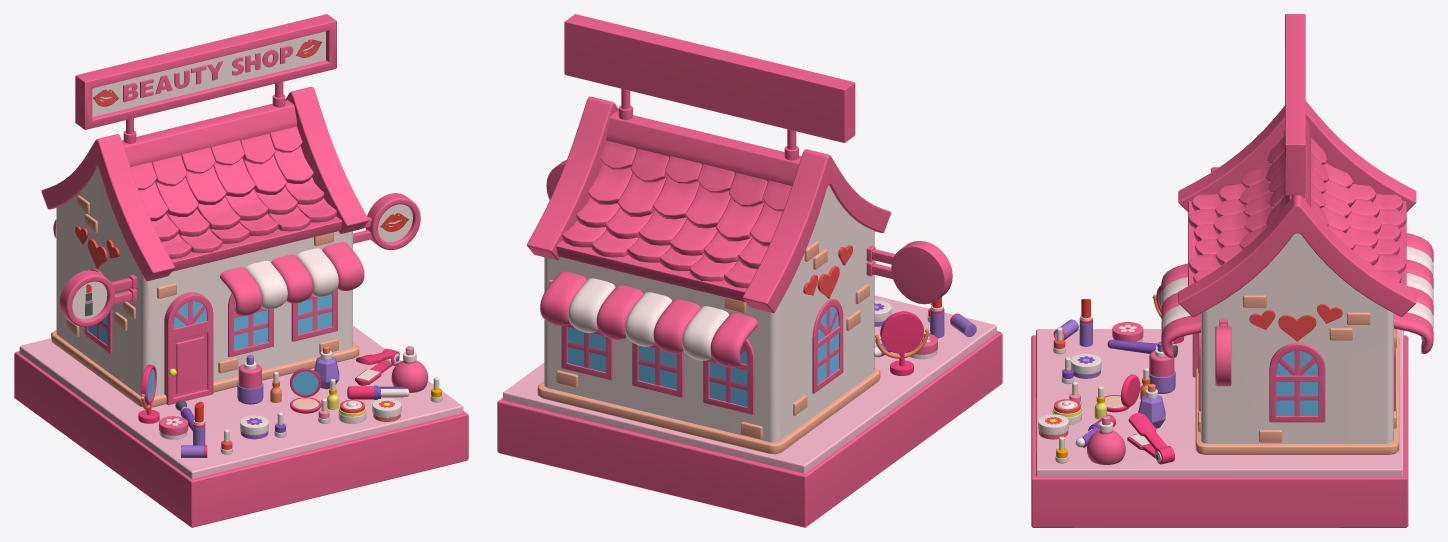
Rendered from Store_Island_17.glb.
3 renders of one model, left to right at view 1: azimuth 30°, elevation 25°; view 2: azimuth 150°, elevation 25°; view 3: azimuth 270°, elevation 25°, orthographic. The views are drawn at different scales.
Parts seen in each view (by area): view 1: Store_17_Beauty_Shop_1, Store_17_Base_1, Store_17_Beauty_Shop_Sign_1, Store_17_Beauty_Sign_2, Store_17_Beauty_Sign_1, Store_17_Face_Powder_1, Store_17_Perfume_Bottle_1, Store_17_Spray_1, Store_17_Hair_Straightener_1, Store_17_Mirror_1, Store_17_Curling_Iron_1, Store_17_Perfume_Bottle_2 (+4 smaller); view 2: Store_17_Beauty_Shop_1, Store_17_Base_1, Store_17_Beauty_Shop_Sign_1, Store_17_Beauty_Sign_2, Store_17_Mirror_1; view 3: Store_17_Beauty_Shop_1, Store_17_Base_1, Store_17_Beauty_Shop_Sign_1, Store_17_Perfume_Bottle_1, Store_17_Hair_Straightener_1, Store_17_Beauty_Sign_1, Store_17_Spray_1, Store_17_Face_Powder_1, Store_17_Perfume_Bottle_2, Store_17_Heart_Sign_4, Store_17_Cream_3, Store_17_Cream_4 (+4 smaller).
Boxes of the visible parts, box(x1,y1,x2,y2) form: Store_17_Beauty_Shop_1: box(41, 86, 368, 407); Store_17_Base_1: box(14, 326, 468, 527); Store_17_Beauty_Shop_Sign_1: box(75, 14, 336, 143); Store_17_Beauty_Sign_2: box(60, 270, 137, 327); Store_17_Beauty_Sign_1: box(353, 193, 420, 249); Store_17_Face_Powder_1: box(290, 368, 321, 413); Store_17_Perfume_Bottle_1: box(391, 346, 428, 392); Store_17_Spray_1: box(237, 355, 263, 404); Store_17_Hair_Straightener_1: box(355, 348, 399, 385); Store_17_Mirror_1: box(138, 364, 159, 423); Store_17_Curling_Iron_1: box(347, 385, 409, 399); Store_17_Perfume_Bottle_2: box(314, 346, 339, 389); Store_17_Beauty_Shop_1: box(526, 96, 890, 454); Store_17_Base_1: box(497, 295, 1002, 527); Store_17_Beauty_Shop_Sign_1: box(564, 14, 855, 160); Store_17_Beauty_Sign_2: box(866, 241, 952, 304); Store_17_Mirror_1: box(874, 311, 930, 375); Store_17_Beauty_Shop_1: box(1161, 101, 1433, 454); Store_17_Base_1: box(1031, 329, 1408, 527); Store_17_Beauty_Shop_Sign_1: box(1285, 14, 1305, 198); Store_17_Perfume_Bottle_1: box(1086, 415, 1125, 464); Store_17_Hair_Straightener_1: box(1127, 413, 1174, 464); Store_17_Beauty_Sign_1: box(1215, 319, 1231, 386); Store_17_Spray_1: box(1149, 341, 1175, 393); Store_17_Face_Powder_1: box(1104, 374, 1140, 412); Store_17_Perfume_Bottle_2: box(1138, 383, 1165, 428); Store_17_Heart_Sign_4: box(1278, 315, 1316, 341); Store_17_Cream_3: box(1038, 414, 1068, 439); Store_17_Cream_4: box(1071, 353, 1101, 378).
Bounding box in the file's own units: 11.07 × 10.56 × 10.19.
31 materials, 31 textured.
